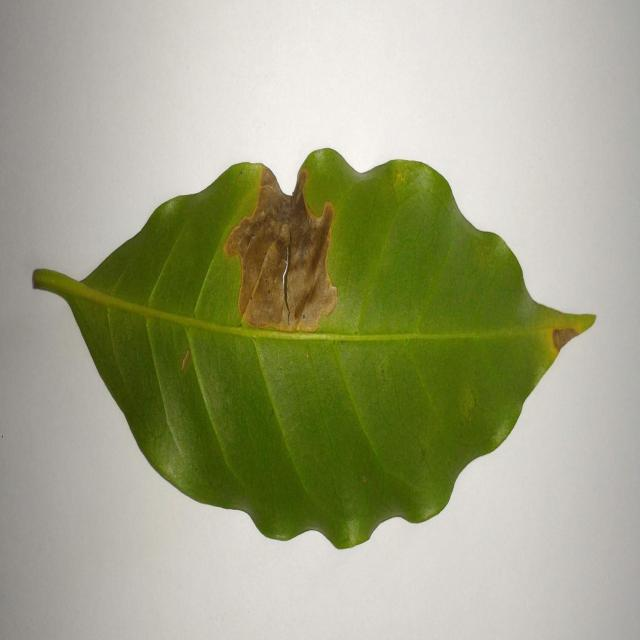Plaga-Minador: (30, 152, 597, 552)
